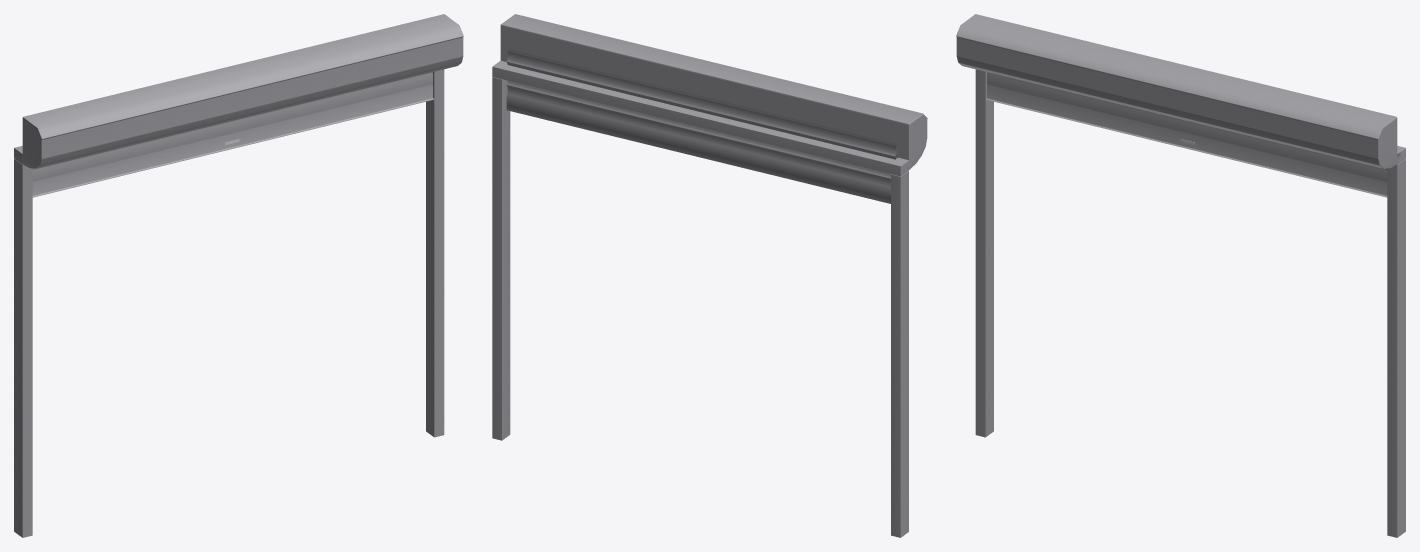
Rendered from Shutter_Open.glb.
3 views of the same model, side by side, from view 1: azimuth 30°, elevation 25°; view 2: azimuth 150°, elevation 25°; view 3: azimuth 330°, elevation 25° (orthographic). The views are drawn at different scales.
Parts seen in each view (by area): view 1: roller garage doors.004; view 2: roller garage doors.004; view 3: roller garage doors.004.
Boxes of the visible parts, <box> form: roller garage doors.004: <box>14,14,463,537</box>; roller garage doors.004: <box>492,14,927,537</box>; roller garage doors.004: <box>956,14,1405,537</box>.
Size of the model in its own units: 5.56 by 5.31 by 0.6382.
Materials: 2 (1 with a texture image).
